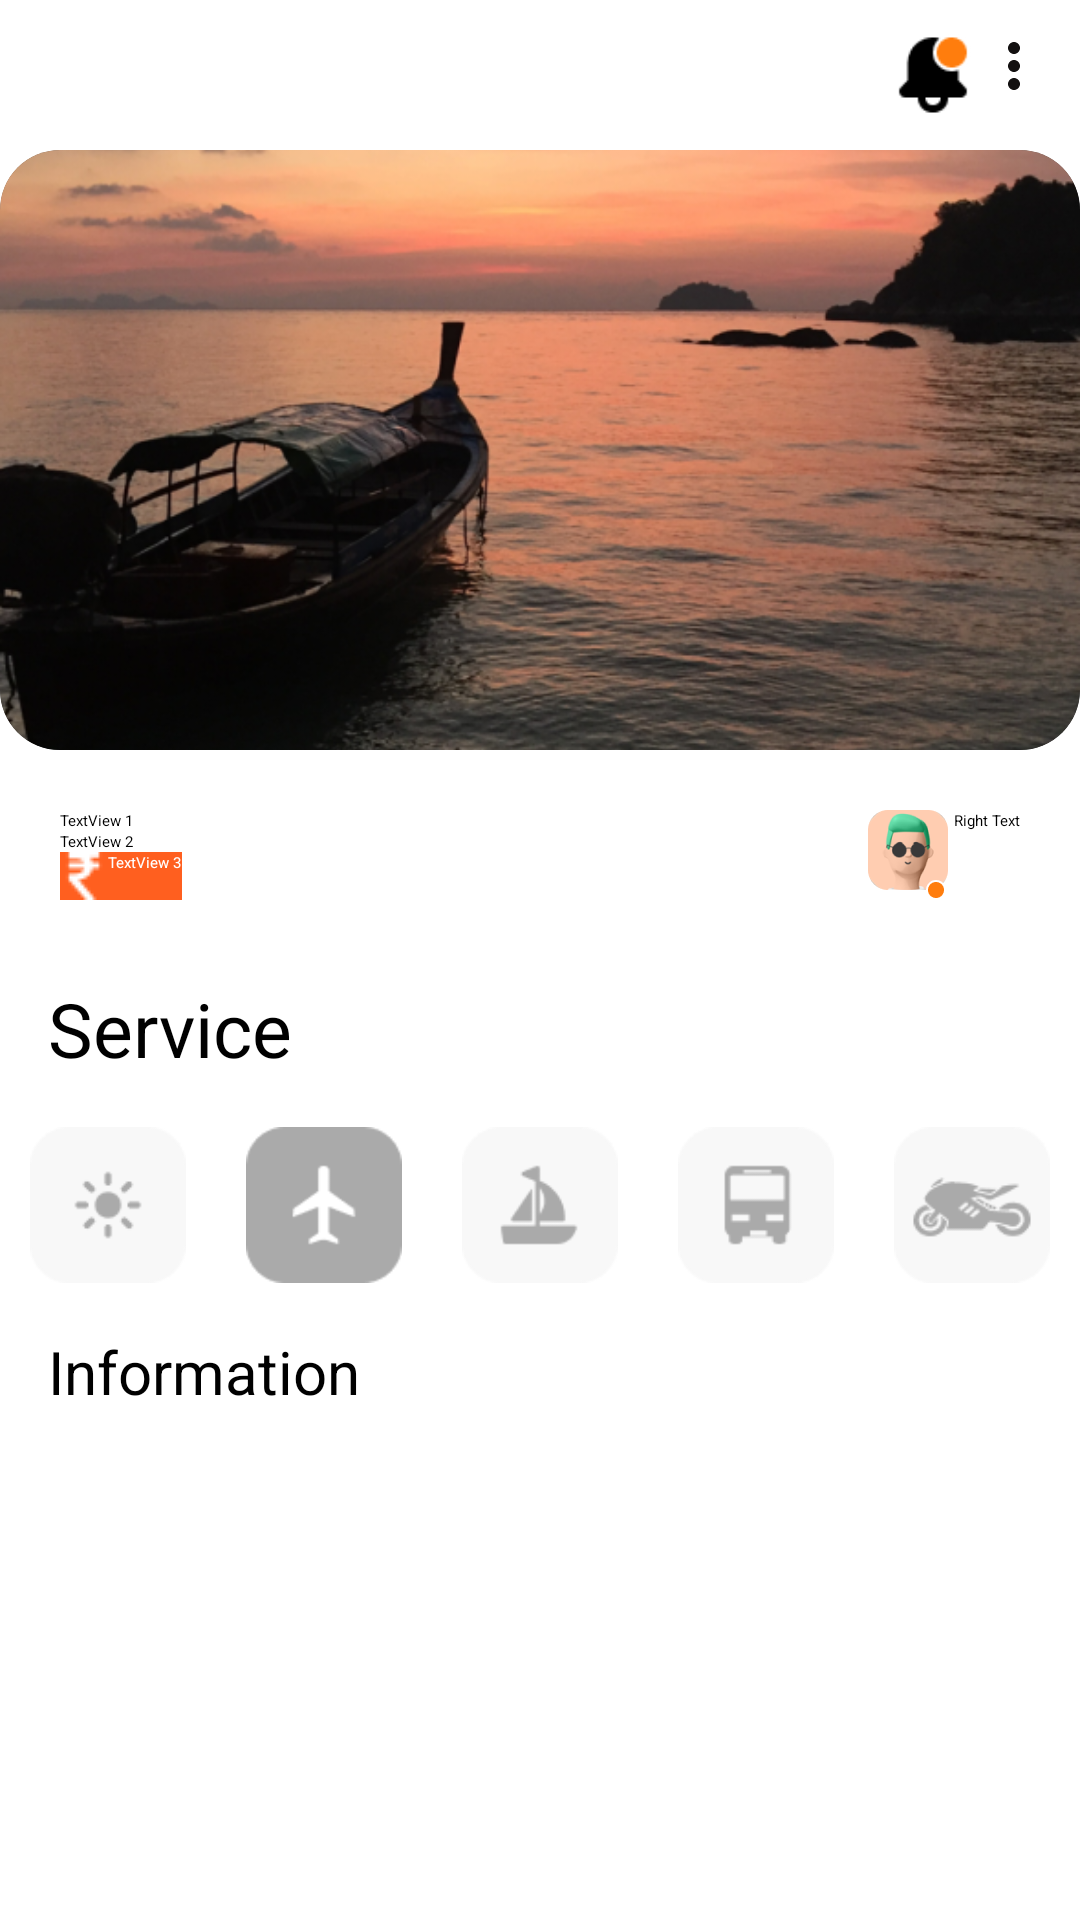

Point at icon controls on the screen. Image size 1080w x 1920h, points as point (x, y).
areoplanewhite: point (324, 1205)
belll: point (933, 75)
bike: point (972, 1207)
boattt: point (539, 1205)
busss: point (757, 1205)
more vert: point (1014, 66)
sun: point (108, 1205)
